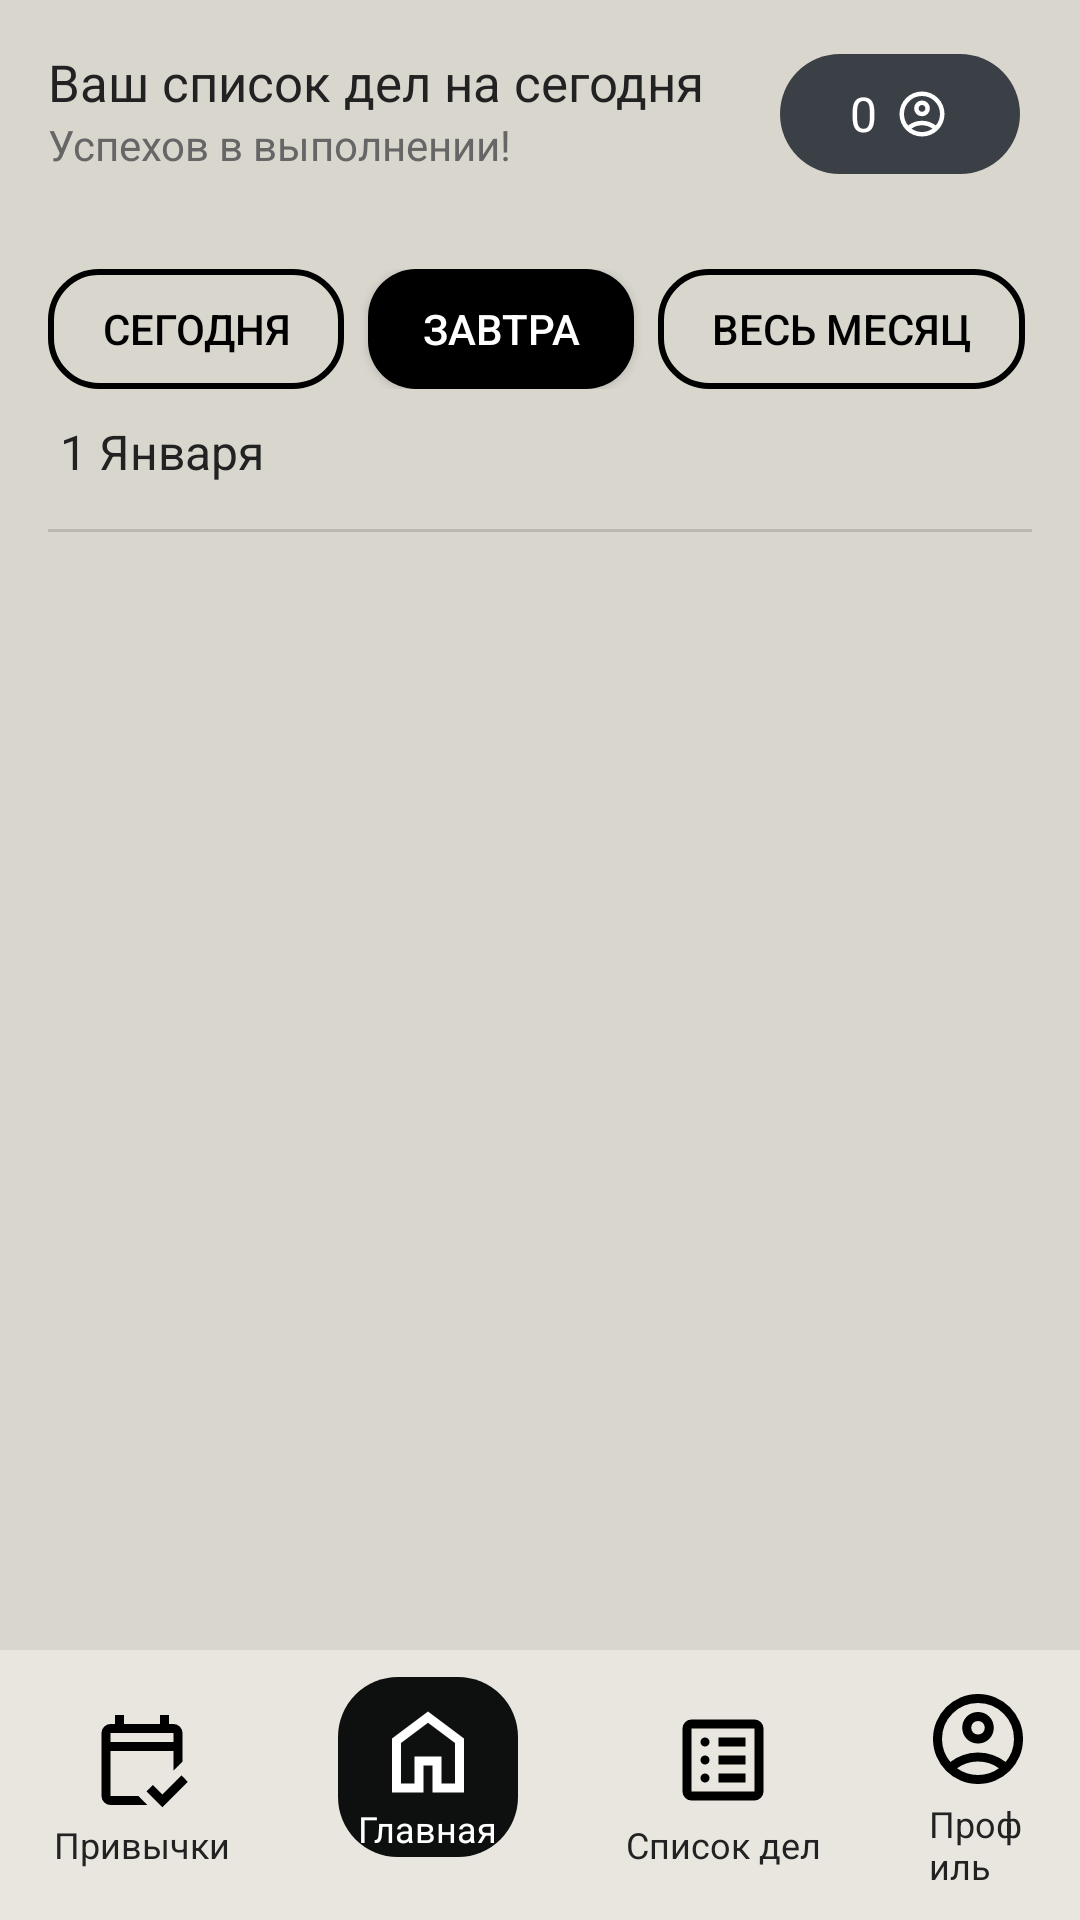

Named icons in this screenshot (1080*1920) and their bounding boxes, [x1, y1, x2, y2]:
calendar: [101, 1715, 188, 1807]
